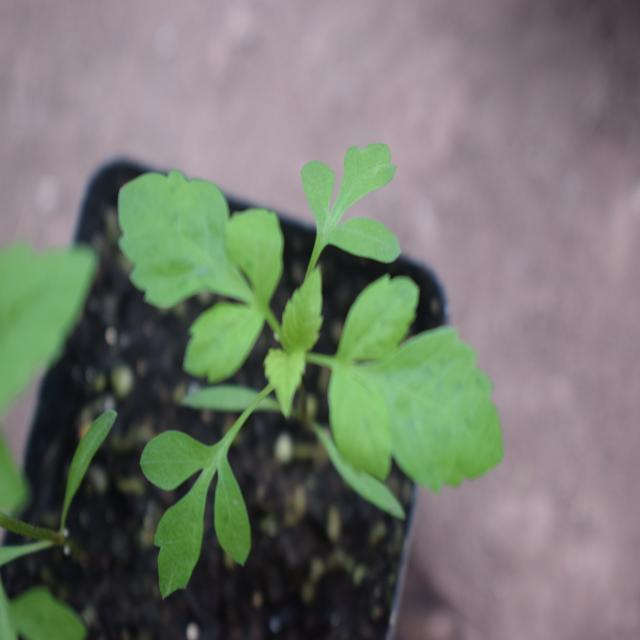Bidens pilosa: (106, 150, 504, 581)
